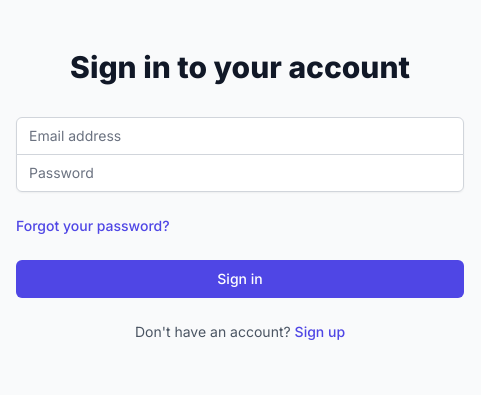
Test case: SignIn Page › Form submission › displays error message when signin fails
The image size is (481, 395).
Type "test@example.com" into the field labelled "Email address" at {"x": 240, "y": 136}, box [16,116,464,154]
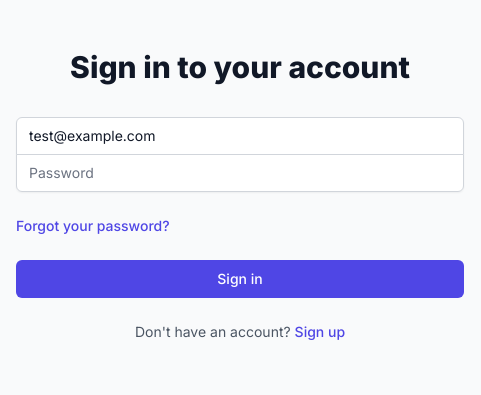
Type "wrongpassword" into the password field labelled "Password" at {"x": 240, "y": 172}, box [16,154,464,192]
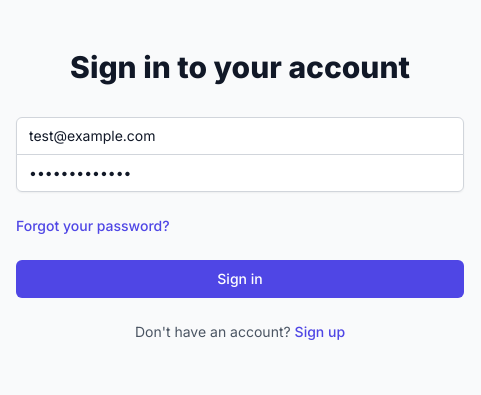
Click the button "Sign in" at {"x": 240, "y": 278}, box [16,260,464,298]
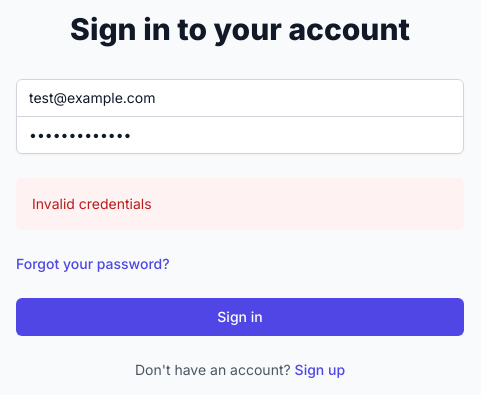
Expected: the text "Invalid credentials" is shown, [32,194,152,212]
